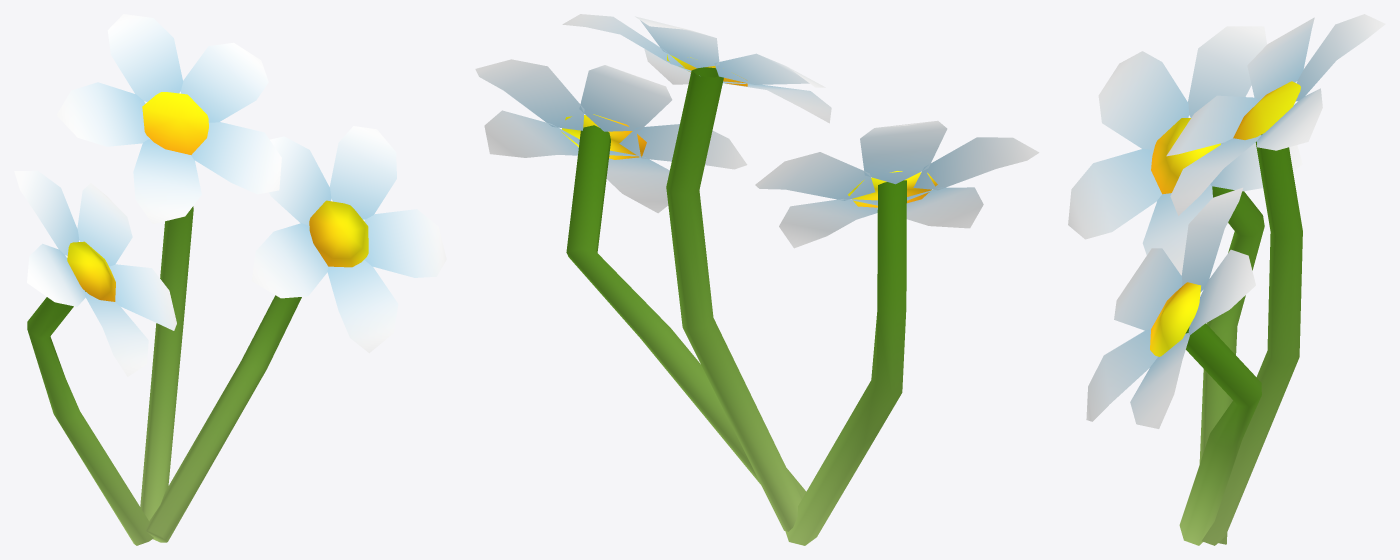
Rendered from flowerstack.glb.
3 views of the same model, side by side, from view 1: azimuth 30°, elevation 25°; view 2: azimuth 150°, elevation 25°; view 3: azimuth 270°, elevation 25° (orthographic). The views are drawn at different scales.
Parts seen in each view (by area): view 1: flowerstack; view 2: flowerstack; view 3: flowerstack.
Part boxes in pixels (bbox=[...]): flowerstack: bbox=[14, 14, 446, 545]; flowerstack: bbox=[475, 14, 1039, 545]; flowerstack: bbox=[1068, 14, 1385, 545].
Bounding box in the file's own units: 1.16 × 1.18 × 0.615.
Materials: 1 (1 with a texture image).
